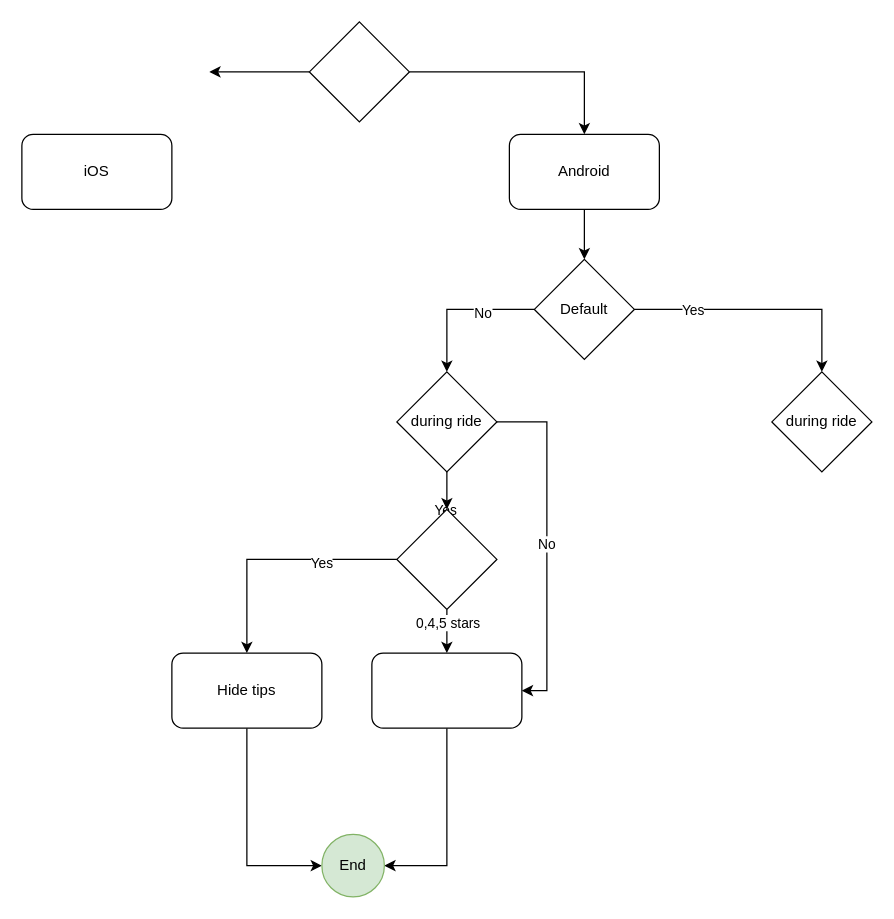
Image size: 894x919. Some labels were removed from this diagram. The shapes that lost their labels are listed below. From the top down, each one's centre as x and y in pixels, then its label:
At point (358, 71): "OS".
At point (446, 558): "1-3 stars".
At point (446, 690): "Show tips + default".
